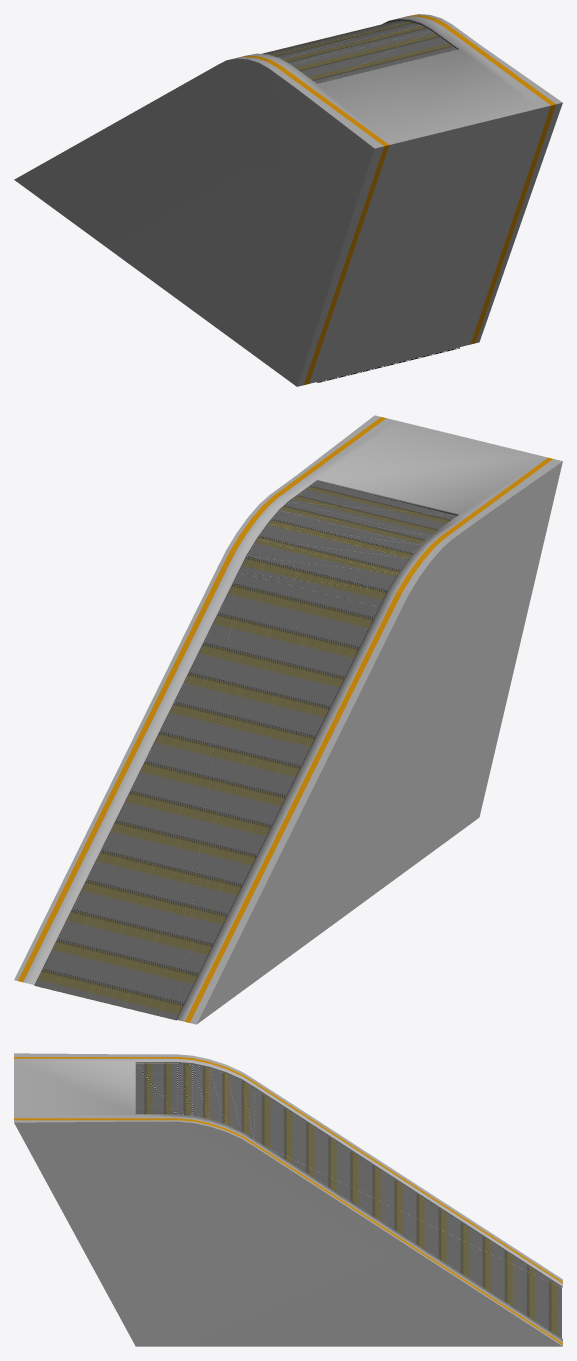
Rendered from CityShopEscalator.fbx.
The picture shows the model from 3 angles, top to bottom: view 1: azimuth 30°, elevation 25°; view 2: azimuth 150°, elevation 25°; view 3: azimuth 270°, elevation 25°; orthographic projection. The views are drawn at different scales.
Visible parts, largest first — view 1: CityShopEscalatorFrame, CityShopEscalator; view 2: CityShopEscalatorFrame, CityShopEscalator; view 3: CityShopEscalatorFrame, CityShopEscalator.
Part boxes in pixels (box(x1,y1,x2,y2)): CityShopEscalatorFrame: box(14, 14, 562, 386); CityShopEscalator: box(261, 21, 459, 382); CityShopEscalatorFrame: box(14, 415, 562, 1024); CityShopEscalator: box(34, 481, 456, 1020); CityShopEscalatorFrame: box(14, 1053, 562, 1346); CityShopEscalator: box(135, 1063, 561, 1338).
Size of the model in its own units: 50.37 by 169 by 76.56.
